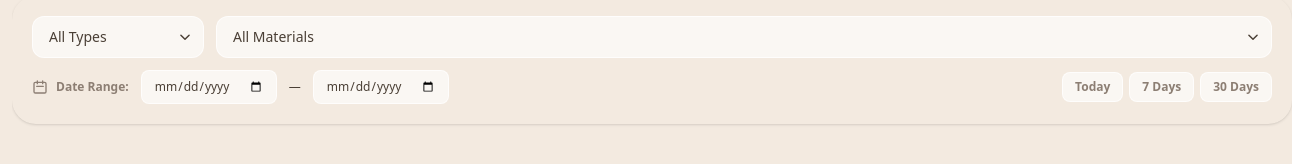
Test: MovementFilterBar.vue (Component Testing) › Integration — v-model pattern › [Integration] parent bisa update semua filter via v-model
The image size is (1292, 164).
Select "IN — Stock In" in the 1st dropdown at (118, 37), box x1=32 y1=16 x2=204 y2=58
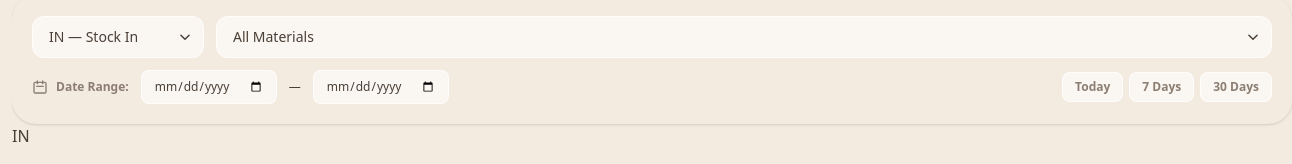
Expected: the text with test id "type" reads "IN", x1=12 y1=125 x2=30 y2=147
Select "Fresh Milk UHT — RM-001" in the 2nd dropdown at (744, 37), box x1=216 y1=16 x2=1272 y2=58
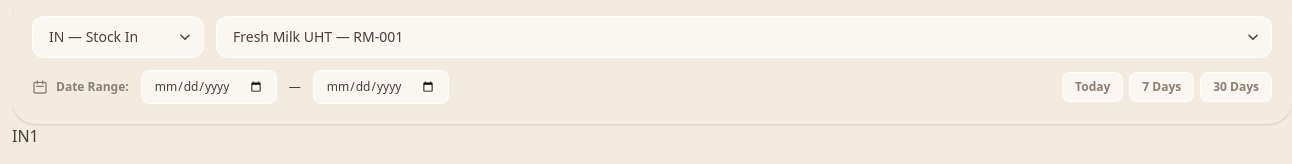
Expected: the text with test id "material" reads "1", x1=30 y1=125 x2=39 y2=147
Type "2024-01-01" into the 1st date field at (209, 87), box x1=141 y1=70 x2=277 y2=104
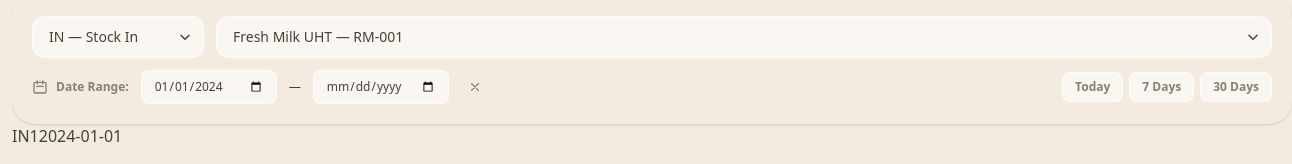
Expected: the text with test id "start" reads "2024-01-01", x1=39 y1=125 x2=122 y2=147
Type "2024-01-31" into the 2nd date field at (381, 87), box x1=313 y1=70 x2=449 y2=104
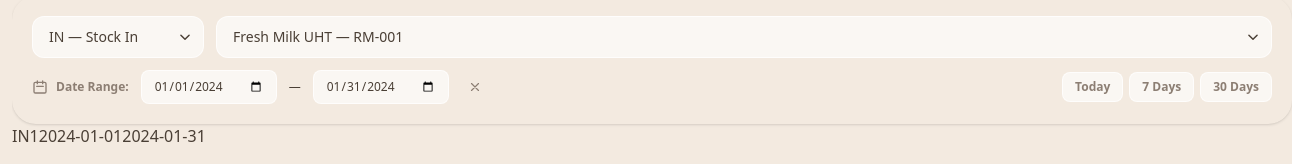
Expected: the text with test id "end" reads "2024-01-31", x1=122 y1=125 x2=206 y2=147
